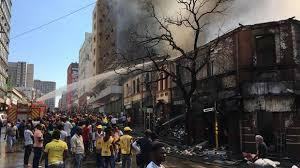smoke: (107, 0, 299, 59)
